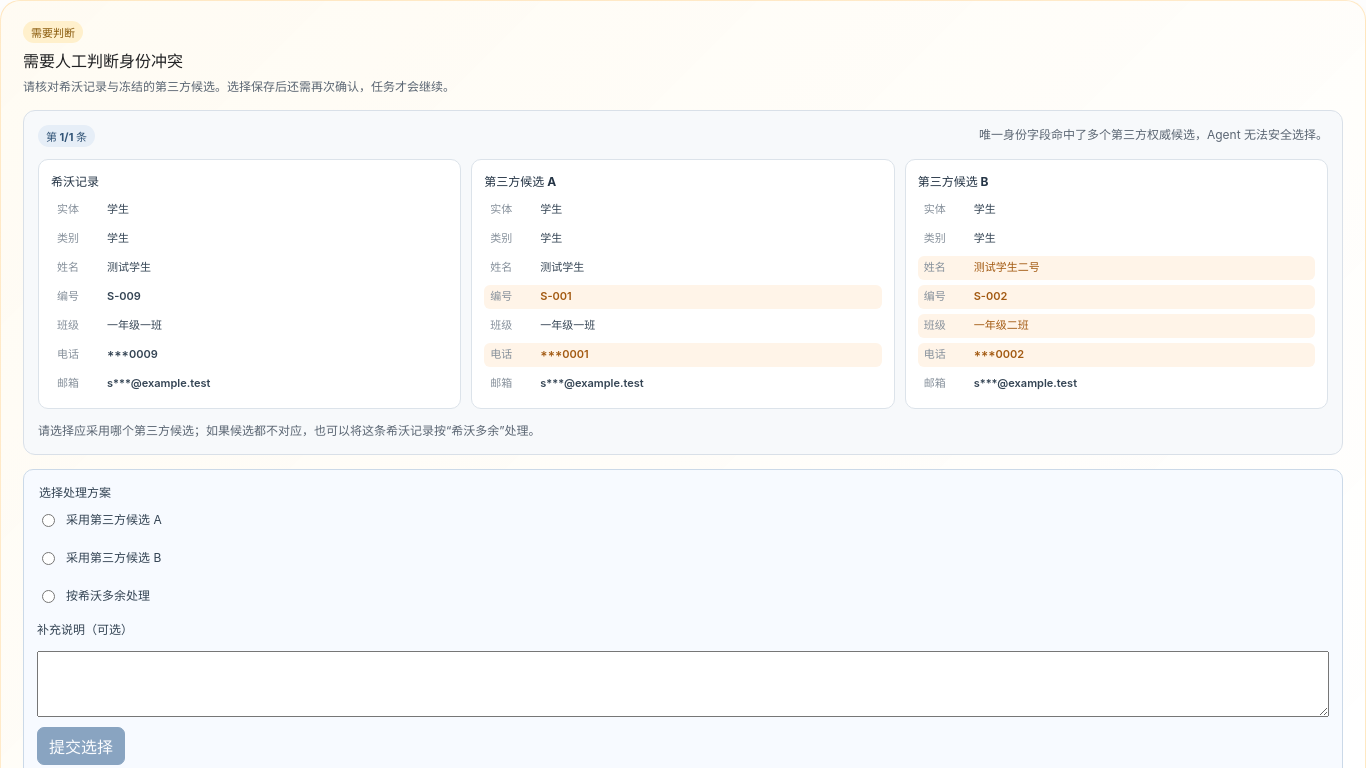
Scenario: IdentityConflictClarificationCard › turns an explicit choice read only immediately while saving
Click the radio button labelled "采用第三方候选 A": coordinates (48, 520) [42,514,55,527]
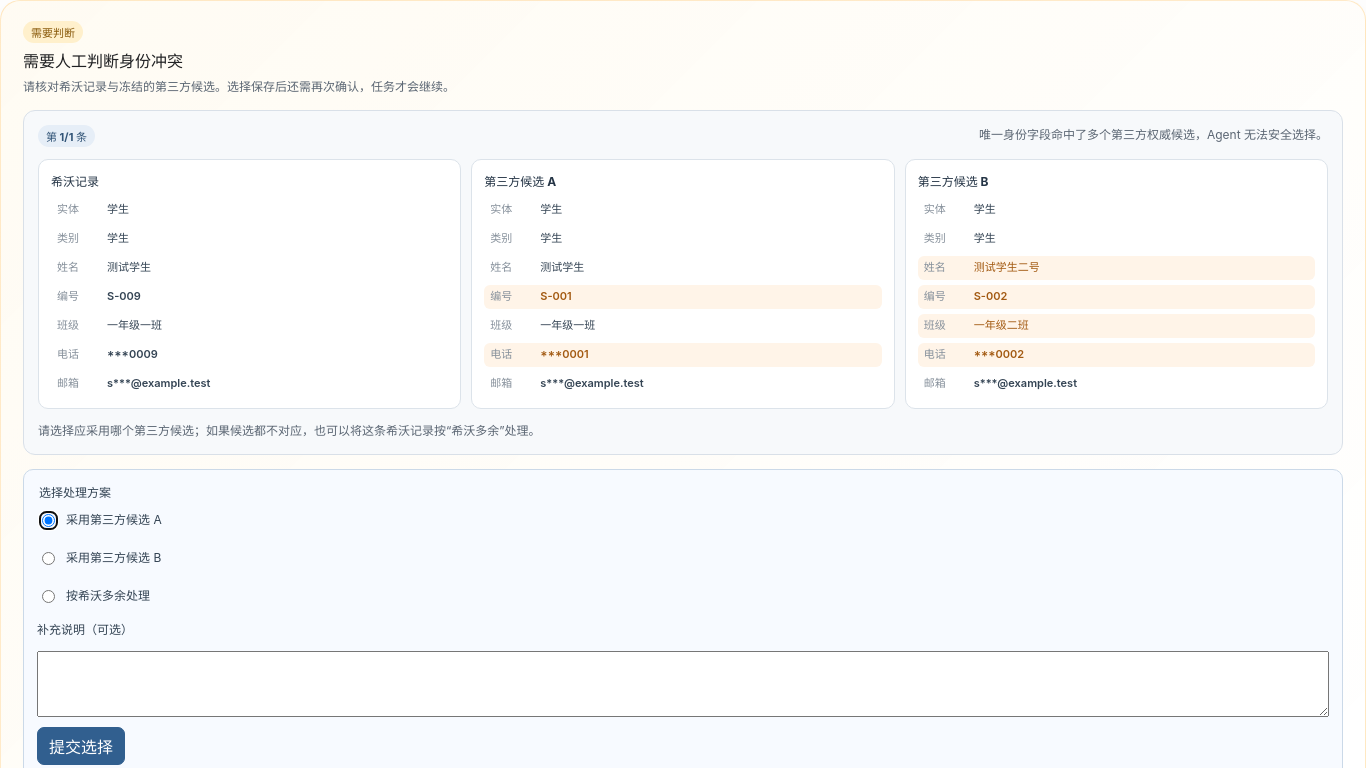
In the text box labelled "补充说明（可选）": coordinates (683, 684) [37,651,1329,717], type "采用候选 A"
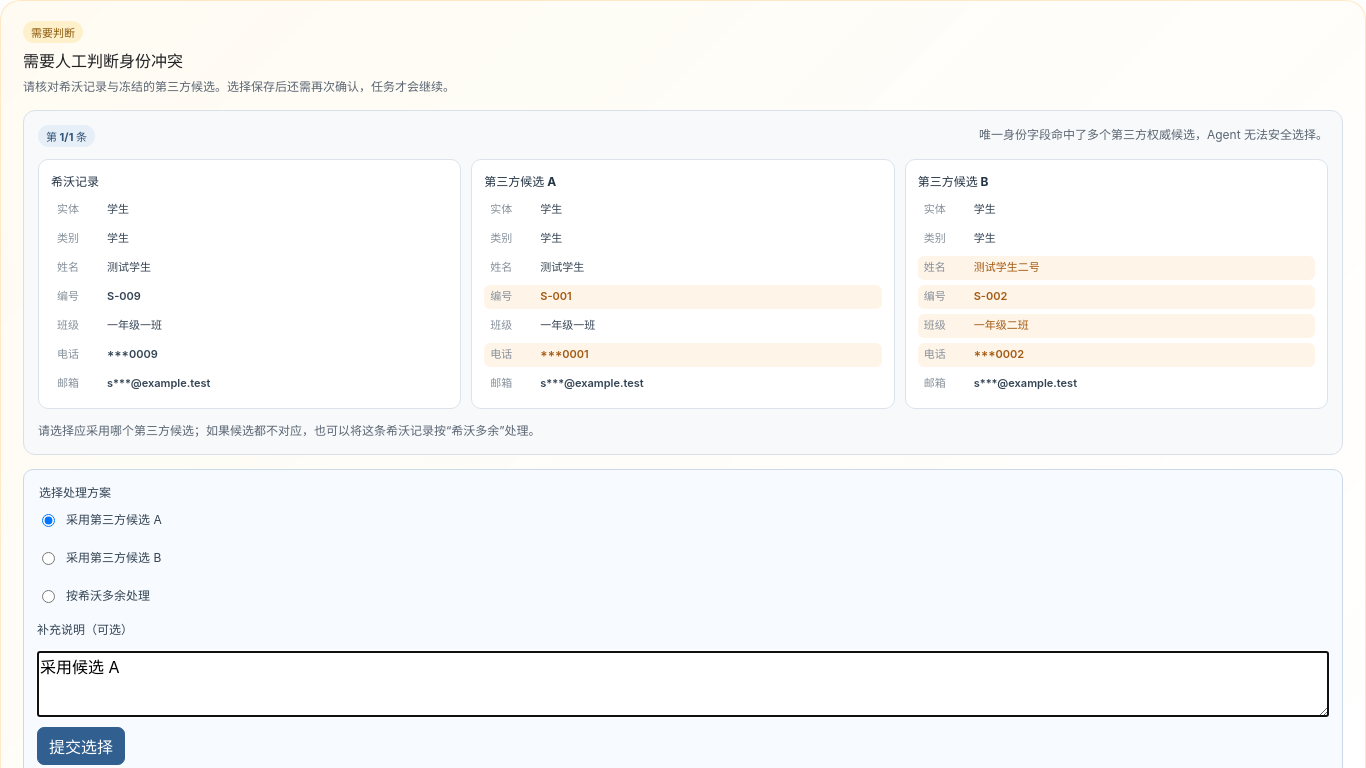
Click the button "提交选择": coordinates (81, 746) [37,727,125,765]
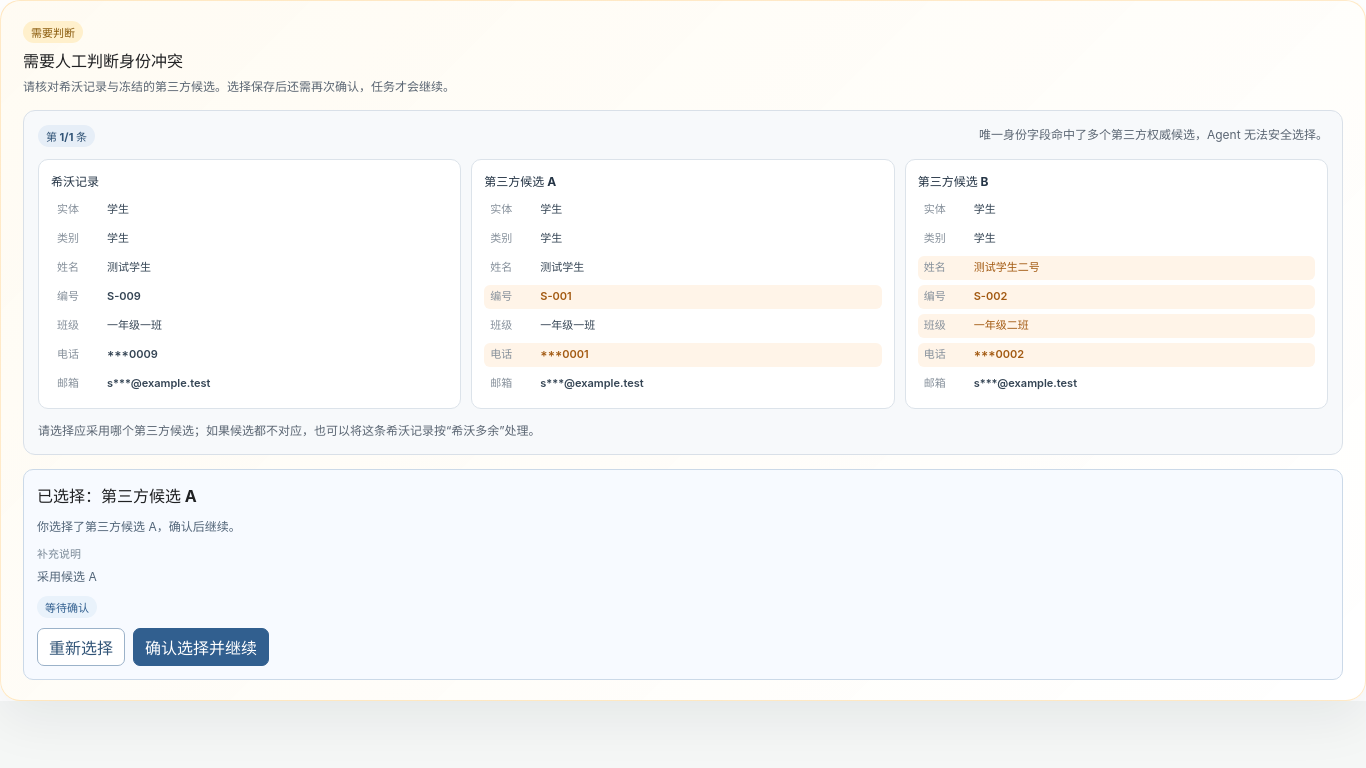
Now the button "提交选择" is gone
Now the radio button is gone
Now the label labelled "补充说明（可选）" is gone
